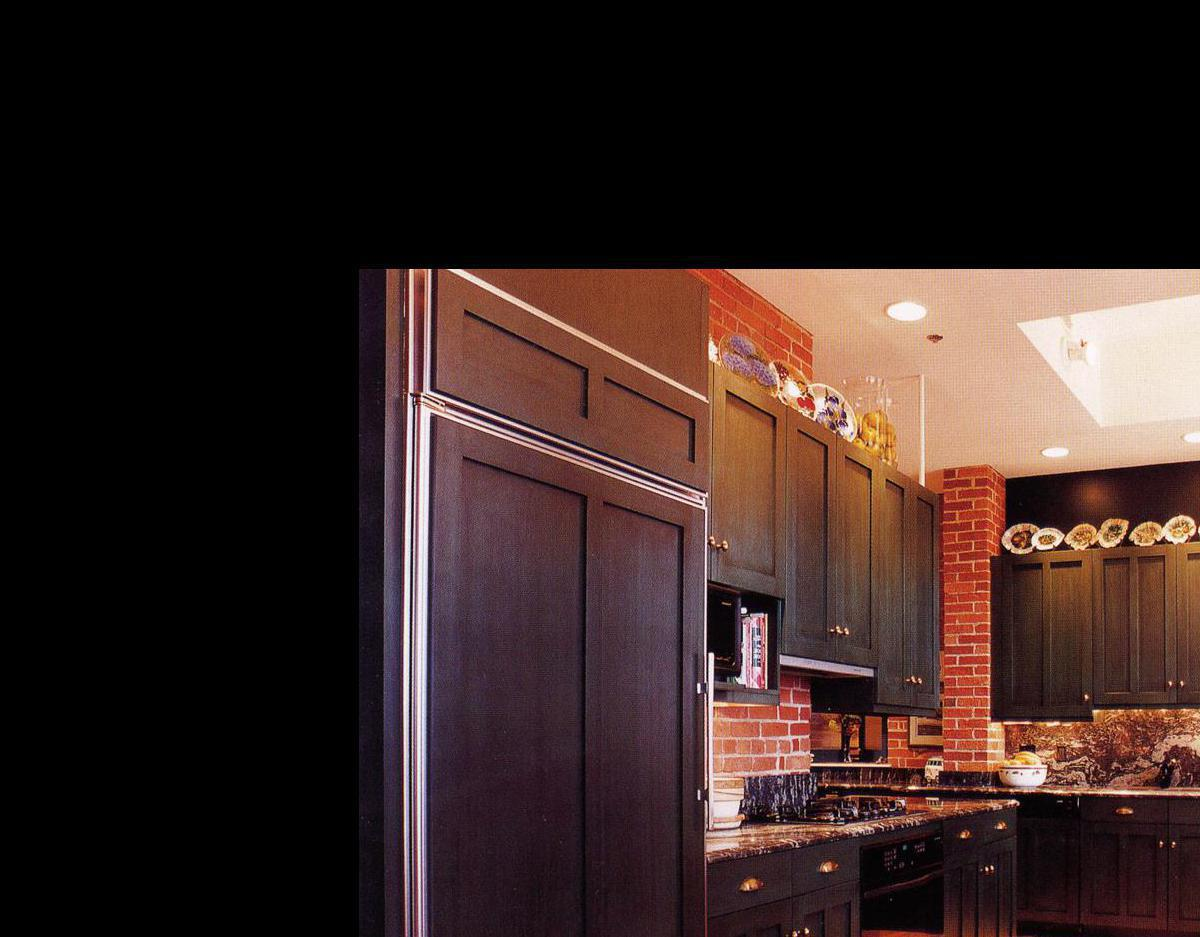Armario: (408, 397, 705, 937)
Electrodomestico: (855, 822, 945, 937)
